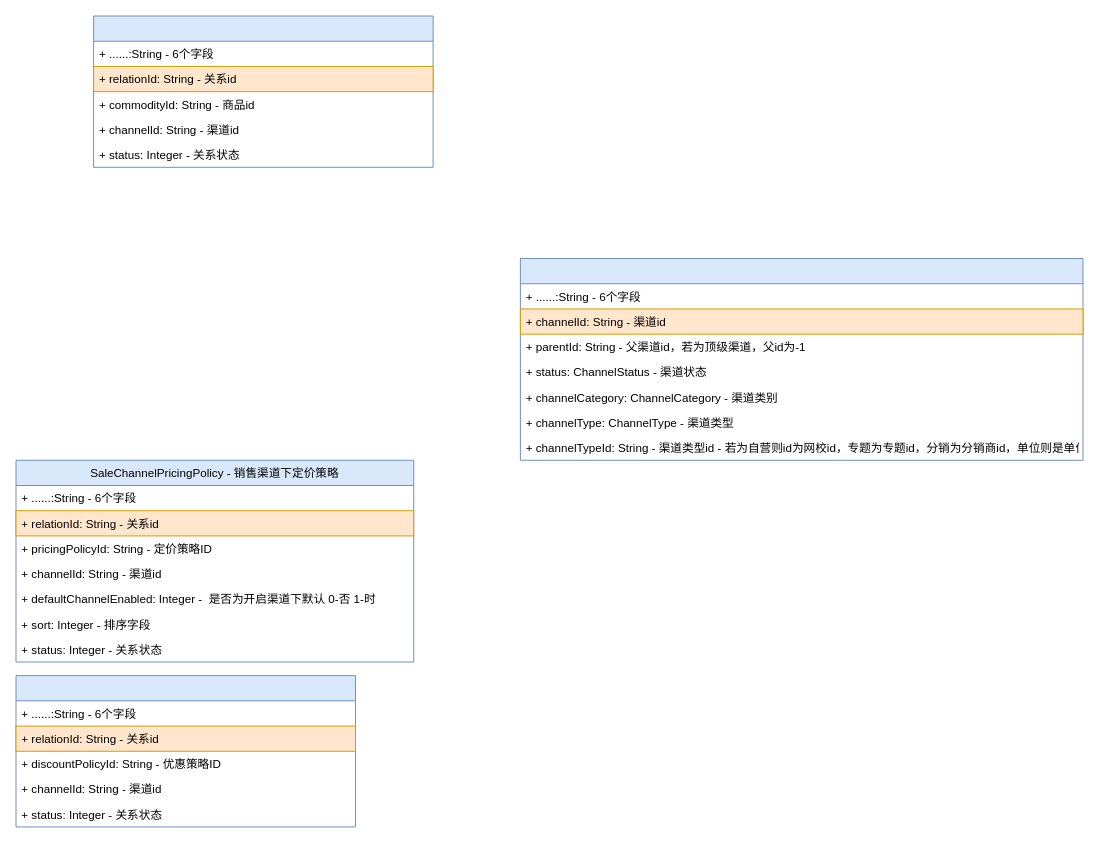
Image size: 1112x843. Some labels were removed from this diagram. The shapes that lost their labels are listed below. From the top down, each one's box as (x1, y1, x2, y2) in pixels, then its label:
(93, 15, 433, 167): SaleChannelCommodity - 销售渠道下商品
(519, 258, 1083, 460): SaleChannel - 销售渠道
(15, 675, 356, 827): SaleChannelDiscountPolicy - 销售渠道下优惠策略
